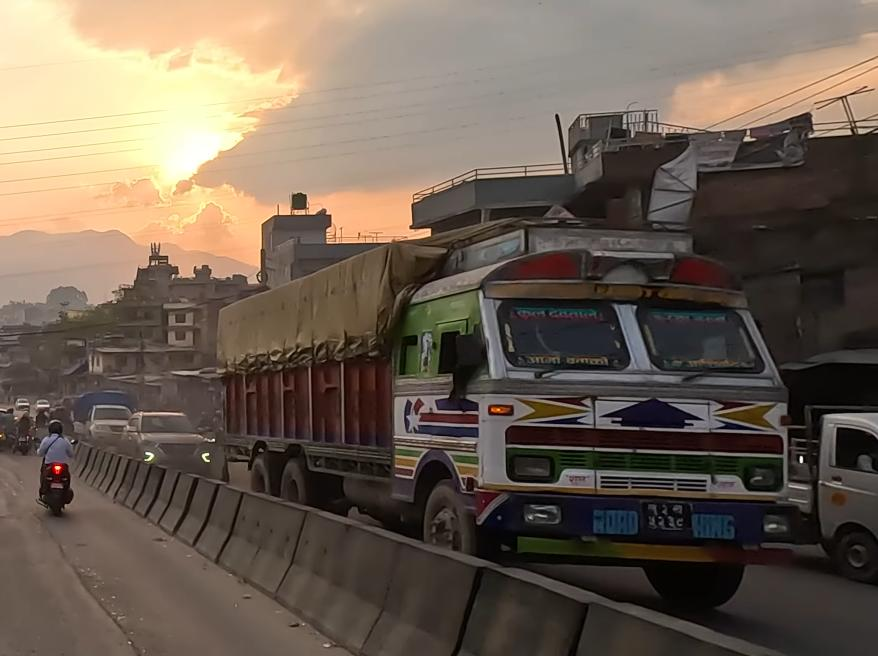car: (123, 405, 216, 474)
scooter: (33, 456, 80, 516)
transport_vehicle: (78, 385, 132, 449)
truck: (214, 213, 798, 608)
